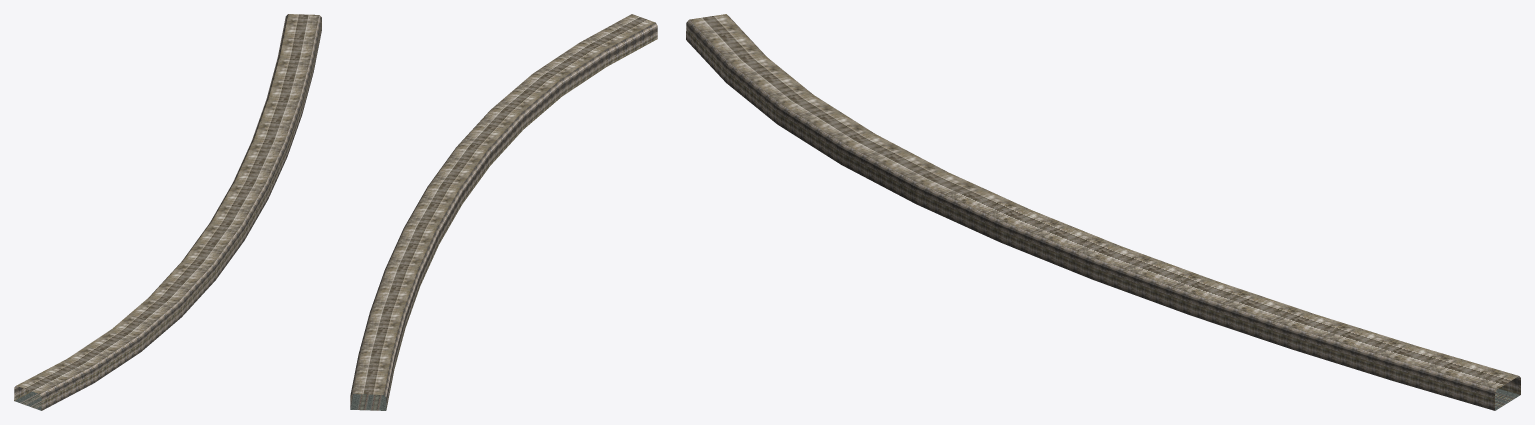
File: xsjmstran1.obj
3 views of the same model, side by side, from view 1: azimuth 30°, elevation 25°; view 2: azimuth 210°, elevation 25°; view 3: azimuth 270°, elevation 25° (orthographic). The views are drawn at different scales.
Visible parts, largest first — view 1: xsjmstran1; view 2: xsjmstran1; view 3: xsjmstran1.
Boxes of the visible parts, bbox=[...] form: xsjmstran1: bbox=[14, 14, 321, 410]; xsjmstran1: bbox=[350, 14, 657, 410]; xsjmstran1: bbox=[686, 14, 1520, 410].
Bounding box in the file's own units: 215 × 5.53 × 202.
Materials: 4 (4 with a texture image).
